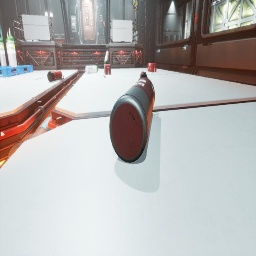0: (7, 28, 18, 67), (0, 36, 7, 66), (6, 31, 11, 66), (85, 66, 100, 74), (104, 51, 109, 64), (18, 63, 22, 65)
EmergencyPhone ,: (100, 13, 103, 21), (23, 31, 24, 36), (101, 16, 102, 17)
FireAlarm ,: (194, 14, 198, 22), (103, 22, 105, 26)
FireExtinguisher ]: (47, 70, 64, 82), (139, 71, 148, 80)
FirstAidBox ,: (148, 60, 157, 72), (104, 61, 111, 75)
NitrogenTank ,: (109, 77, 155, 163), (110, 38, 123, 43)
SafetySwitchPanel ,: (71, 16, 77, 32)
